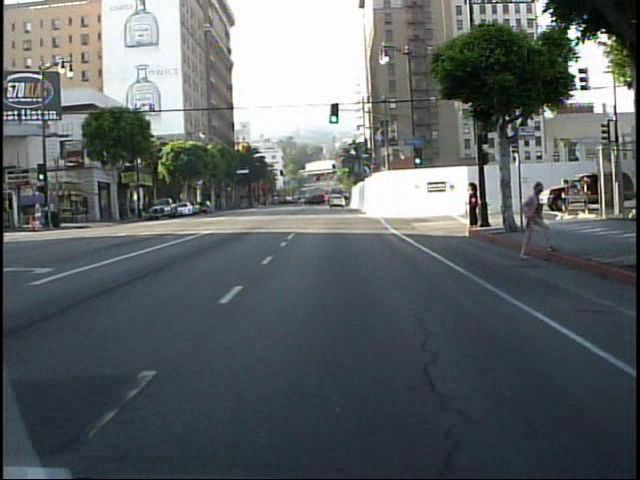person: (516, 177, 549, 270), (466, 181, 480, 232)
